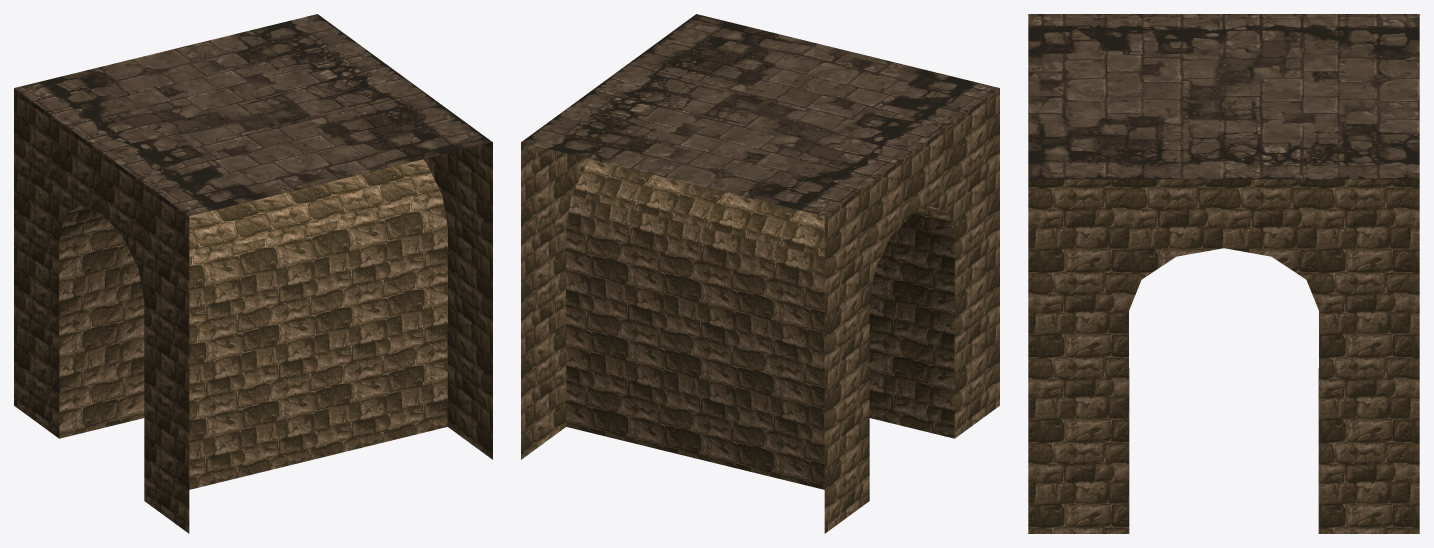
Rendered from Battle04_Wall_01.FBX.
3 renders of one model, left to right at view 1: azimuth 30°, elevation 25°; view 2: azimuth 150°, elevation 25°; view 3: azimuth 270°, elevation 25°, orthographic. The views are drawn at different scales.
Visible parts, largest first — view 1: Battle04_Wall_01_02, Battle04_Wall_01_01; view 2: Battle04_Wall_01_02, Battle04_Wall_01_01; view 3: Battle04_Wall_01_02, Battle04_Wall_01_01.
Boxes of the visible parts, x1,y1,x2,y2 form: Battle04_Wall_01_02: [14, 88, 492, 533]; Battle04_Wall_01_01: [14, 14, 492, 216]; Battle04_Wall_01_02: [521, 88, 999, 533]; Battle04_Wall_01_01: [521, 14, 999, 216]; Battle04_Wall_01_02: [1028, 179, 1419, 533]; Battle04_Wall_01_01: [1028, 14, 1419, 179].
Bounding box in the file's own units: 16 × 16 × 16.
